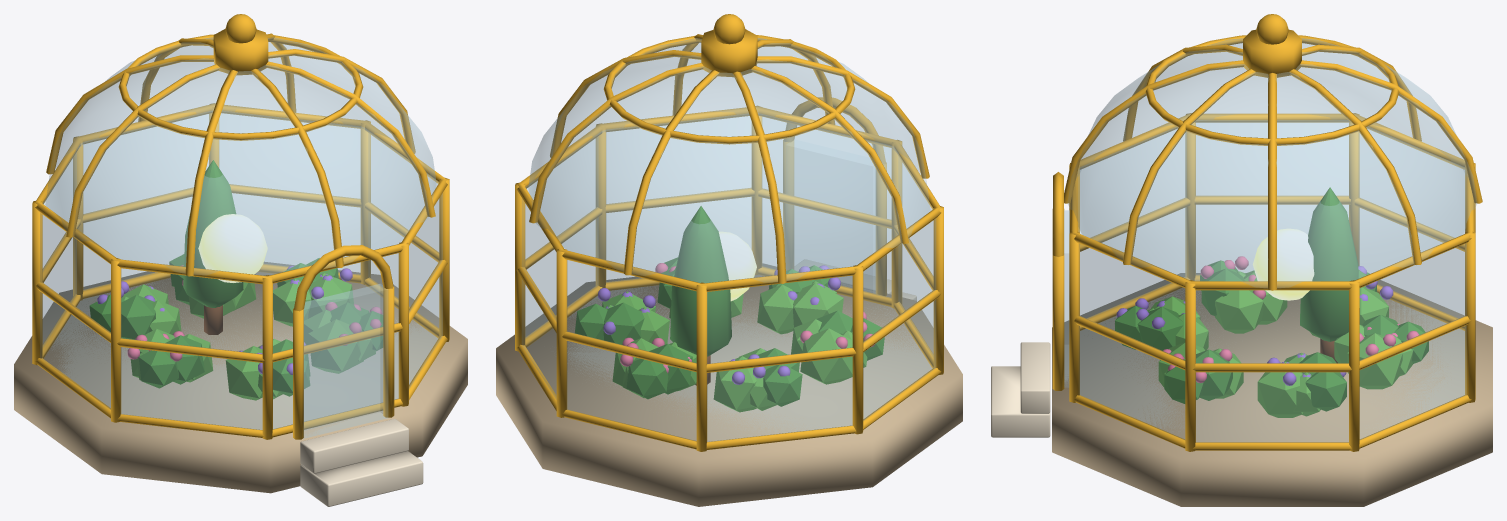
Rendered from sera.glb.
3 views of the same model, side by side, from view 1: azimuth 30°, elevation 25°; view 2: azimuth 150°, elevation 25°; view 3: azimuth 270°, elevation 25° (orthographic). The views are drawn at different scales.
Parts seen in each view (by area): view 1: Sera.001; view 2: Sera.001; view 3: Sera.001.
Boxes of the visible parts, x1=… form: Sera.001: x1=14, y1=14, x2=467, y2=506; Sera.001: x1=496, y1=14, x2=962, y2=506; Sera.001: x1=991, y1=14, x2=1492, y2=506.
Size of the model in its own units: 2.68 by 2.67 by 3.05.
